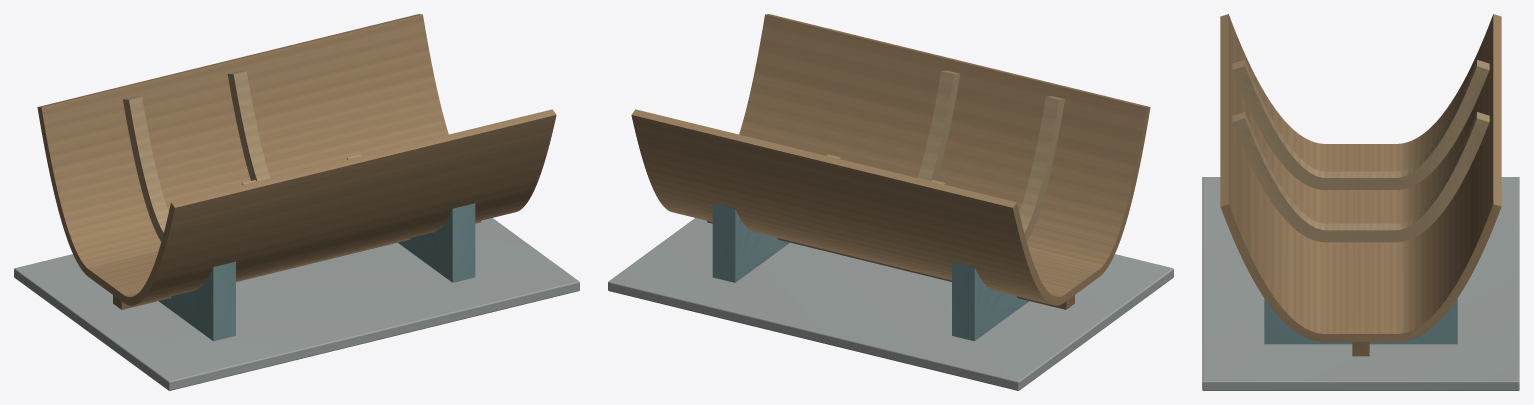
The model's file is galilee-hull.glb.
3 views of the same model, side by side, from view 1: azimuth 30°, elevation 25°; view 2: azimuth 150°, elevation 25°; view 3: azimuth 270°, elevation 25° (orthographic). The views are drawn at different scales.
Parts seen in each view (by area): view 1: galilee-hull-galilee-original-selected-shell-wood, galilee-hull-galilee-modern-neutral-display, galilee-hull-galilee-modern-visible-bearing-saddles.001, galilee-hull-galilee-modern-visible-bearing-saddles, galilee-hull-galilee-original-selected-frame-wood, galilee-hull-galilee-original-selected-frame-wood.001, galilee-hull-galilee-original-selected-keel-wood; view 2: galilee-hull-galilee-original-selected-shell-wood, galilee-hull-galilee-modern-neutral-display, galilee-hull-galilee-modern-visible-bearing-saddles.001, galilee-hull-galilee-modern-visible-bearing-saddles, galilee-hull-galilee-original-selected-frame-wood, galilee-hull-galilee-original-selected-frame-wood.001, galilee-hull-galilee-original-selected-keel-wood; view 3: galilee-hull-galilee-original-selected-shell-wood, galilee-hull-galilee-modern-neutral-display, galilee-hull-galilee-original-selected-frame-wood.001, galilee-hull-galilee-original-selected-frame-wood, galilee-hull-galilee-modern-visible-bearing-saddles.001.
Boxes of the visible parts, box(x1,y1,x2,y2) form: galilee-hull-galilee-original-selected-shell-wood: box(37, 14, 556, 305); galilee-hull-galilee-modern-neutral-display: box(14, 218, 579, 390); galilee-hull-galilee-modern-visible-bearing-saddles.001: box(398, 203, 475, 282); galilee-hull-galilee-modern-visible-bearing-saddles: box(158, 261, 235, 341); galilee-hull-galilee-original-selected-frame-wood: box(123, 96, 256, 241); galilee-hull-galilee-original-selected-frame-wood.001: box(227, 70, 361, 181); galilee-hull-galilee-original-selected-keel-wood: box(113, 221, 480, 309); galilee-hull-galilee-original-selected-shell-wood: box(631, 14, 1150, 305); galilee-hull-galilee-modern-neutral-display: box(608, 218, 1173, 390); galilee-hull-galilee-modern-visible-bearing-saddles.001: box(712, 203, 789, 282); galilee-hull-galilee-modern-visible-bearing-saddles: box(952, 261, 1029, 341); galilee-hull-galilee-original-selected-frame-wood: box(931, 96, 1064, 241); galilee-hull-galilee-original-selected-frame-wood.001: box(826, 70, 960, 181); galilee-hull-galilee-original-selected-keel-wood: box(707, 221, 1074, 309); galilee-hull-galilee-original-selected-shell-wood: box(1220, 14, 1501, 341); galilee-hull-galilee-modern-neutral-display: box(1202, 177, 1519, 390); galilee-hull-galilee-original-selected-frame-wood.001: box(1232, 112, 1489, 242); galilee-hull-galilee-original-selected-frame-wood: box(1232, 59, 1489, 189); galilee-hull-galilee-modern-visible-bearing-saddles.001: box(1264, 298, 1457, 344).
Bounding box in the file's own units: 1.1 × 0.45 × 0.72.
